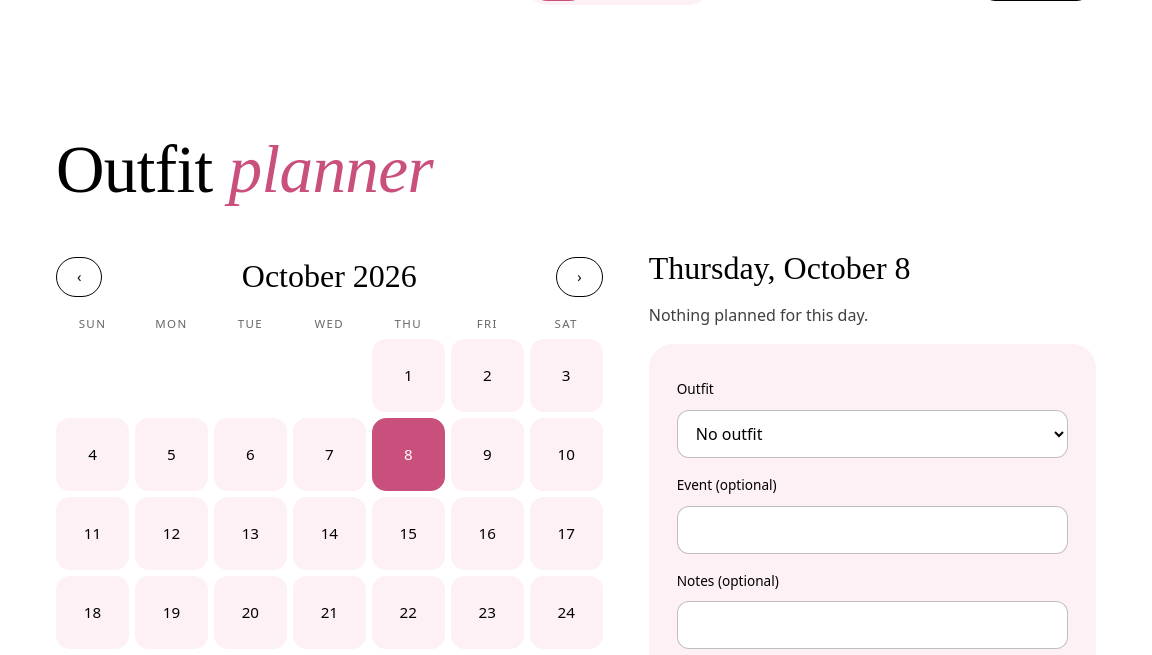
Test: Planner › plans a saved outfit on the selected day
Select "Gala look" in the dropdown labelled "Outfit" at (872, 434), box [677, 410, 1068, 458]
(page scrolled)
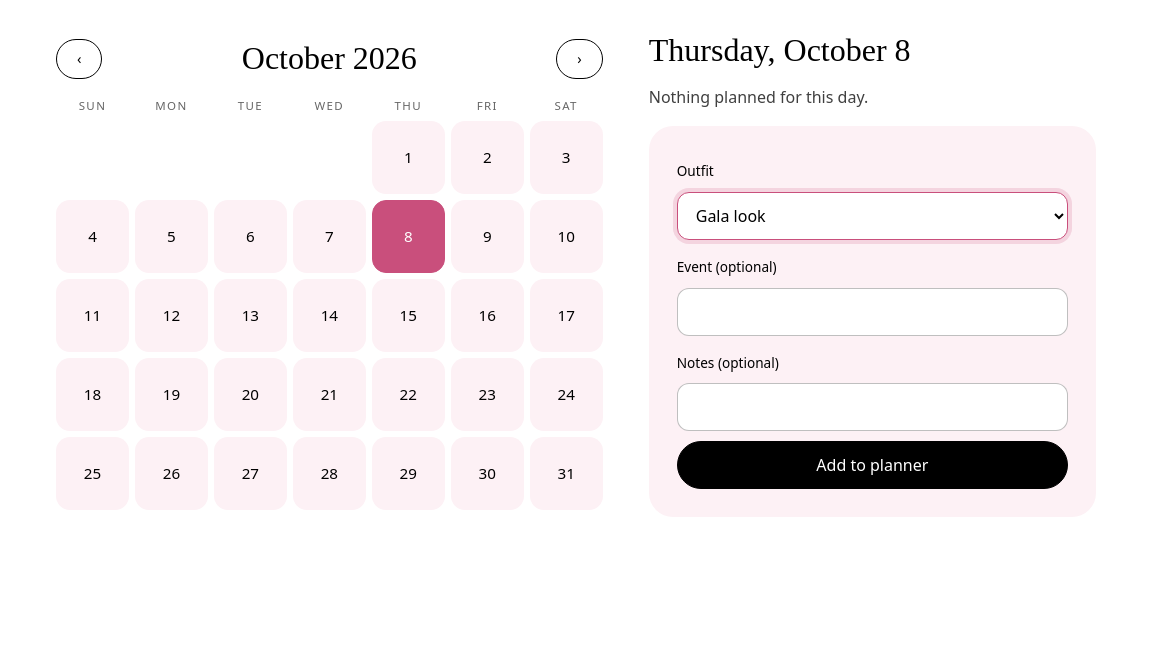
Click the button "Add to planner" at (872, 465), box [677, 441, 1068, 489]
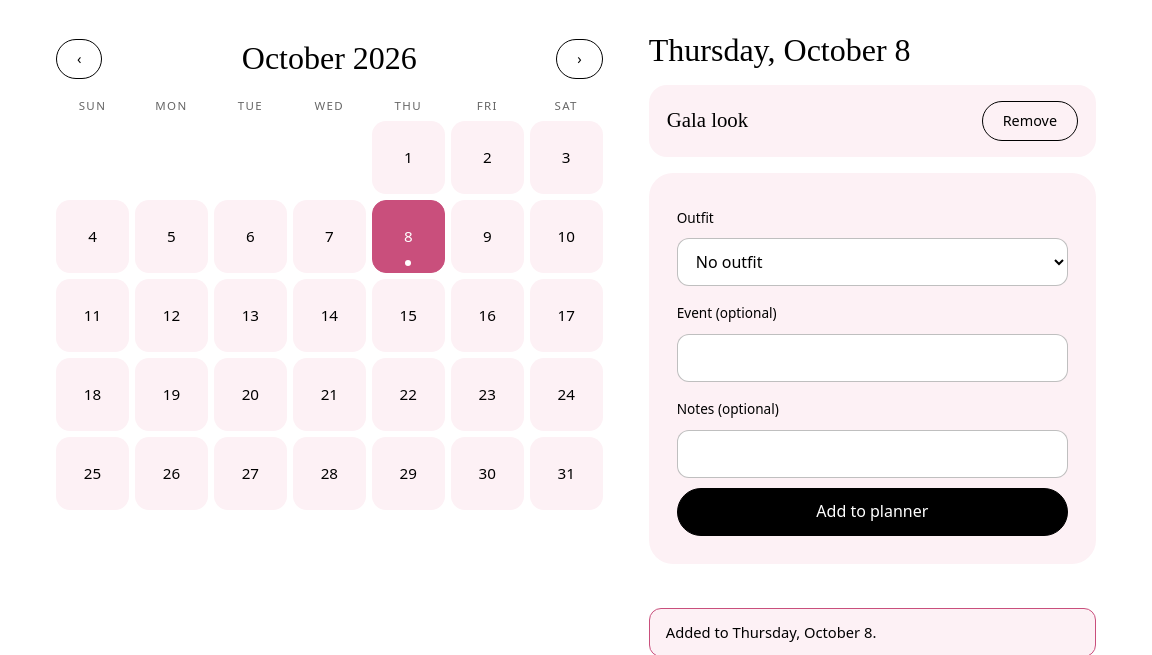
Check: the heading "Gala look" is shown, box [667, 109, 748, 132]
